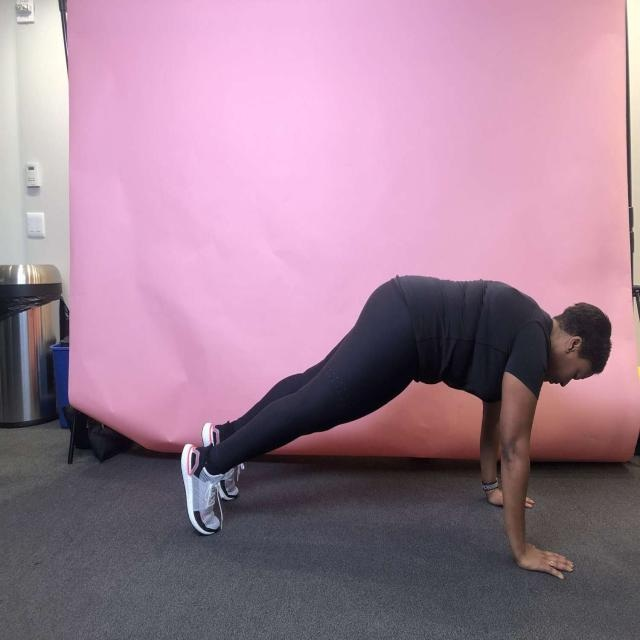plank: (172, 265, 617, 587)
